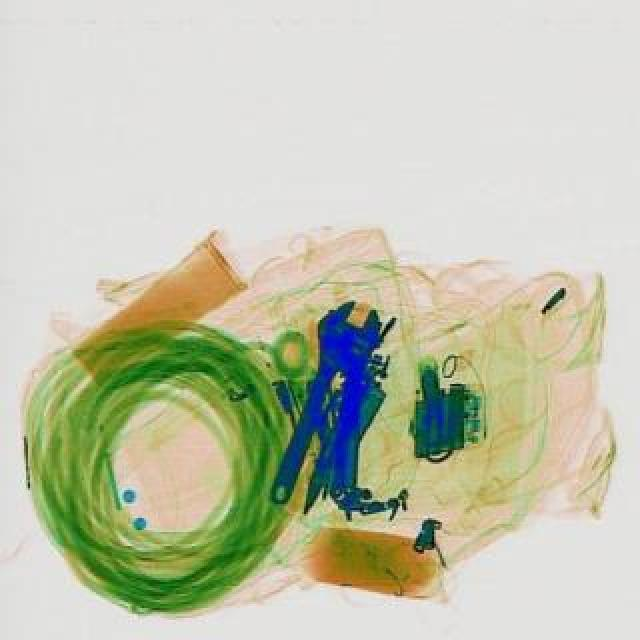scissors: (250, 290, 378, 508), (314, 298, 380, 508)
